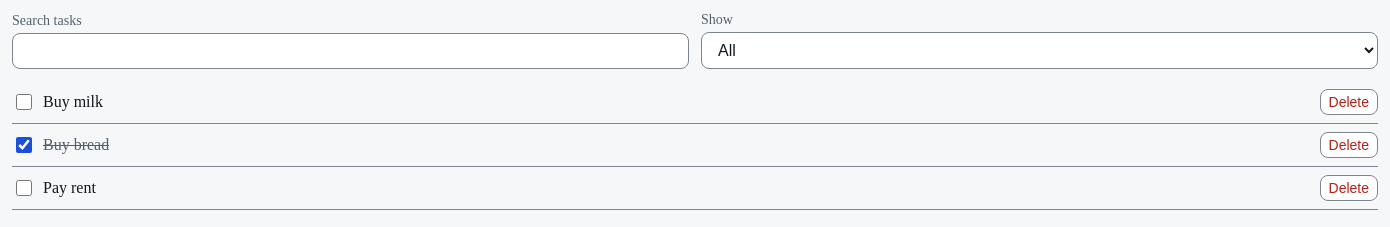
Test: TaskFilter (S1-S3) › shows "No tasks match." when tasks exist but none match
Type "zzz" into the field labelled "Search tasks" at (350, 51), box [12,33,689,69]
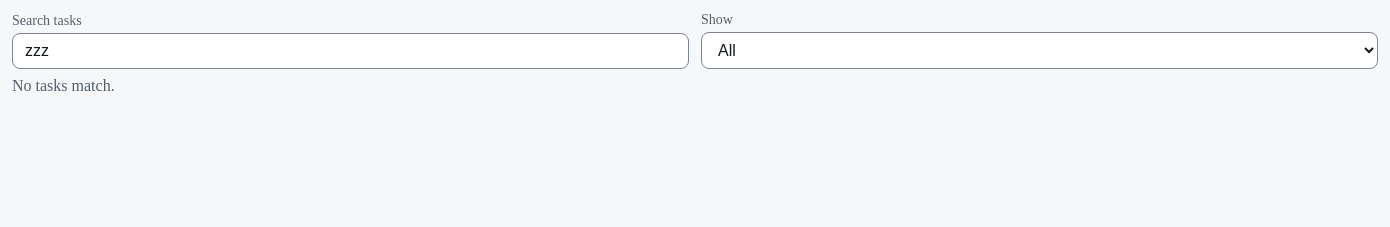
Check: the text "No tasks match." is shown, box [12,77,115,94]
Check: the list is gone
